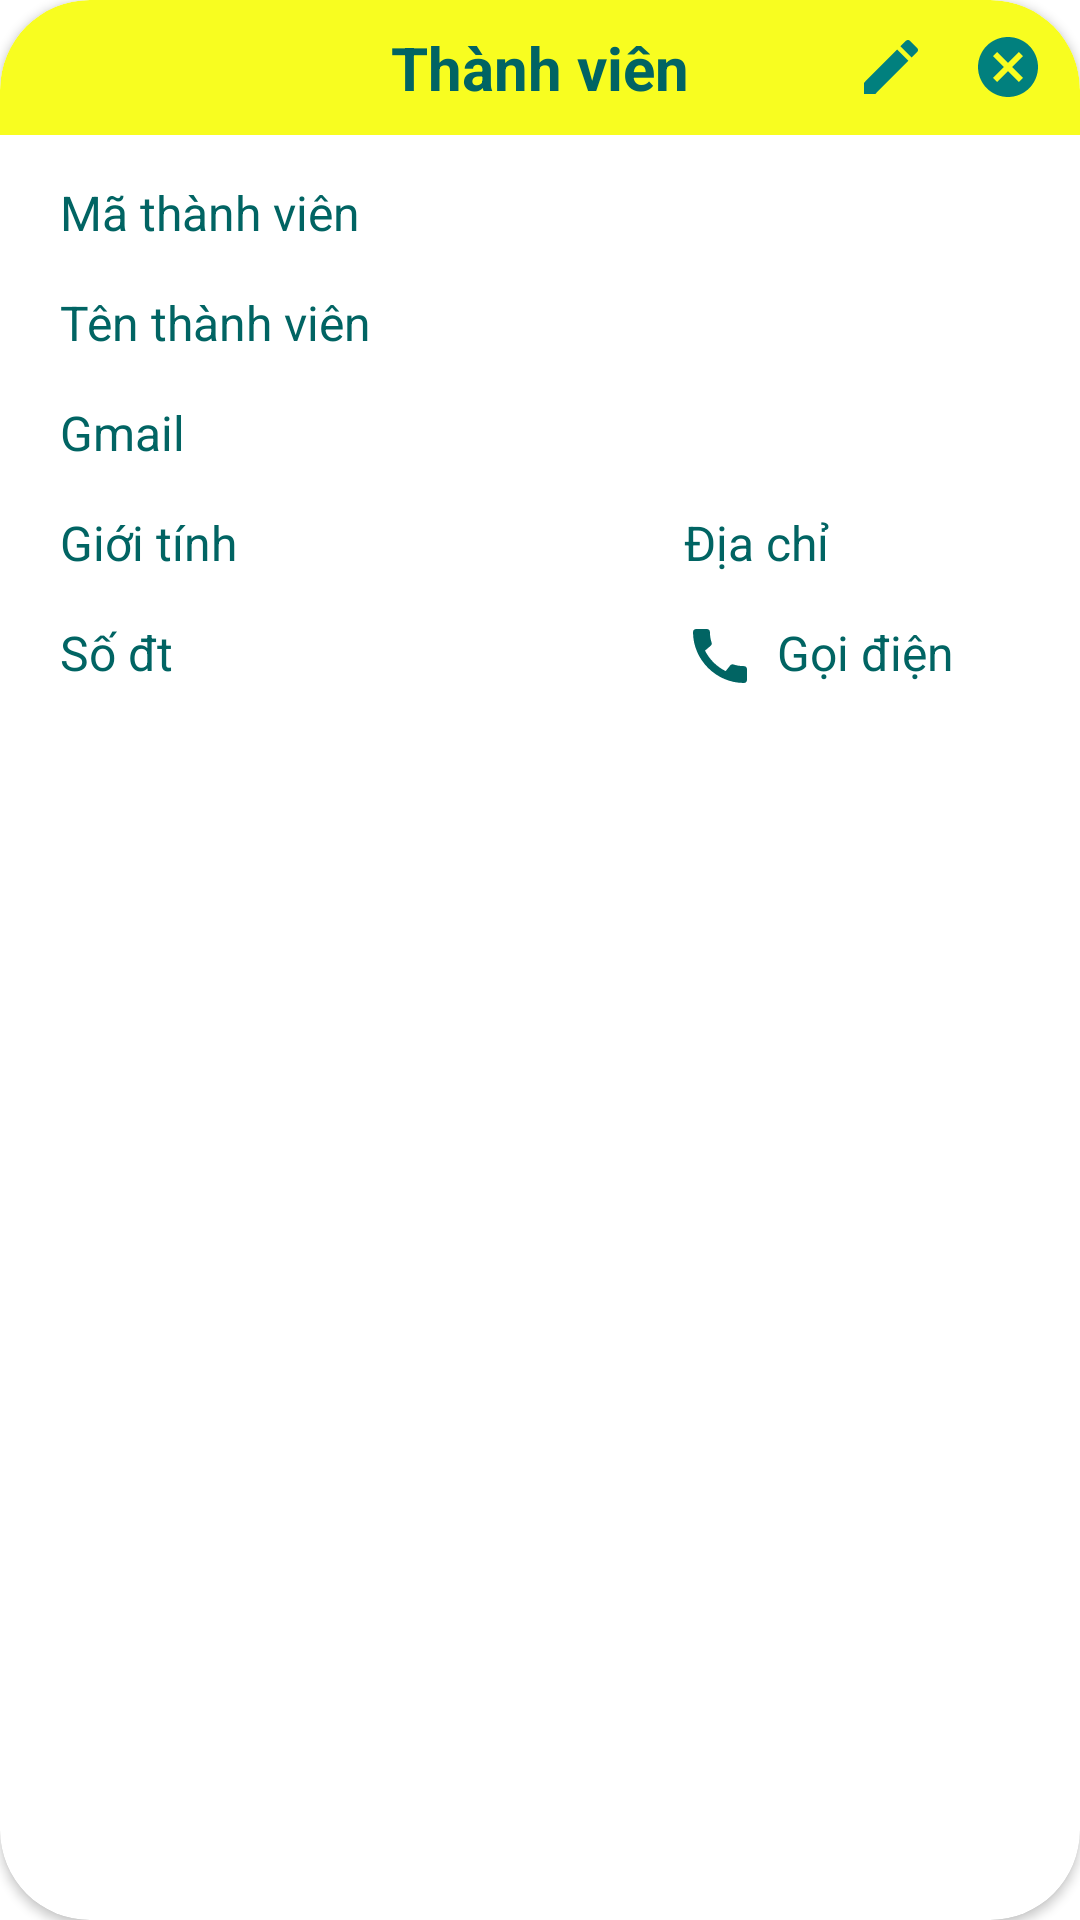

Named icons in this screenshot (1080x1920) and their bounding boxes, (x1, y1, x2, y2):
cancel: (978, 37, 1038, 97)
edit: (864, 40, 918, 94)
